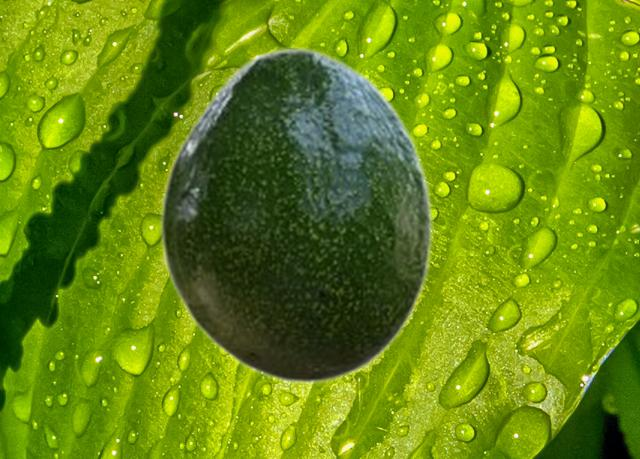avocado: (159, 47, 432, 384)
